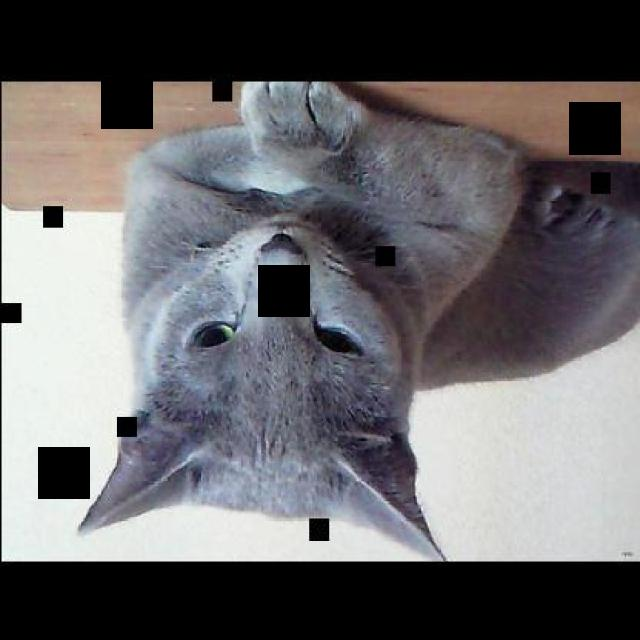unauthorized: (76, 78, 638, 560)
